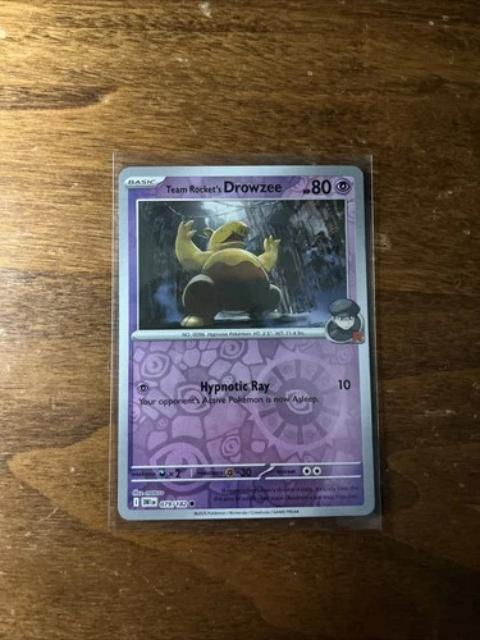Card: (114, 160, 378, 524)
Name: (163, 174, 279, 198)
